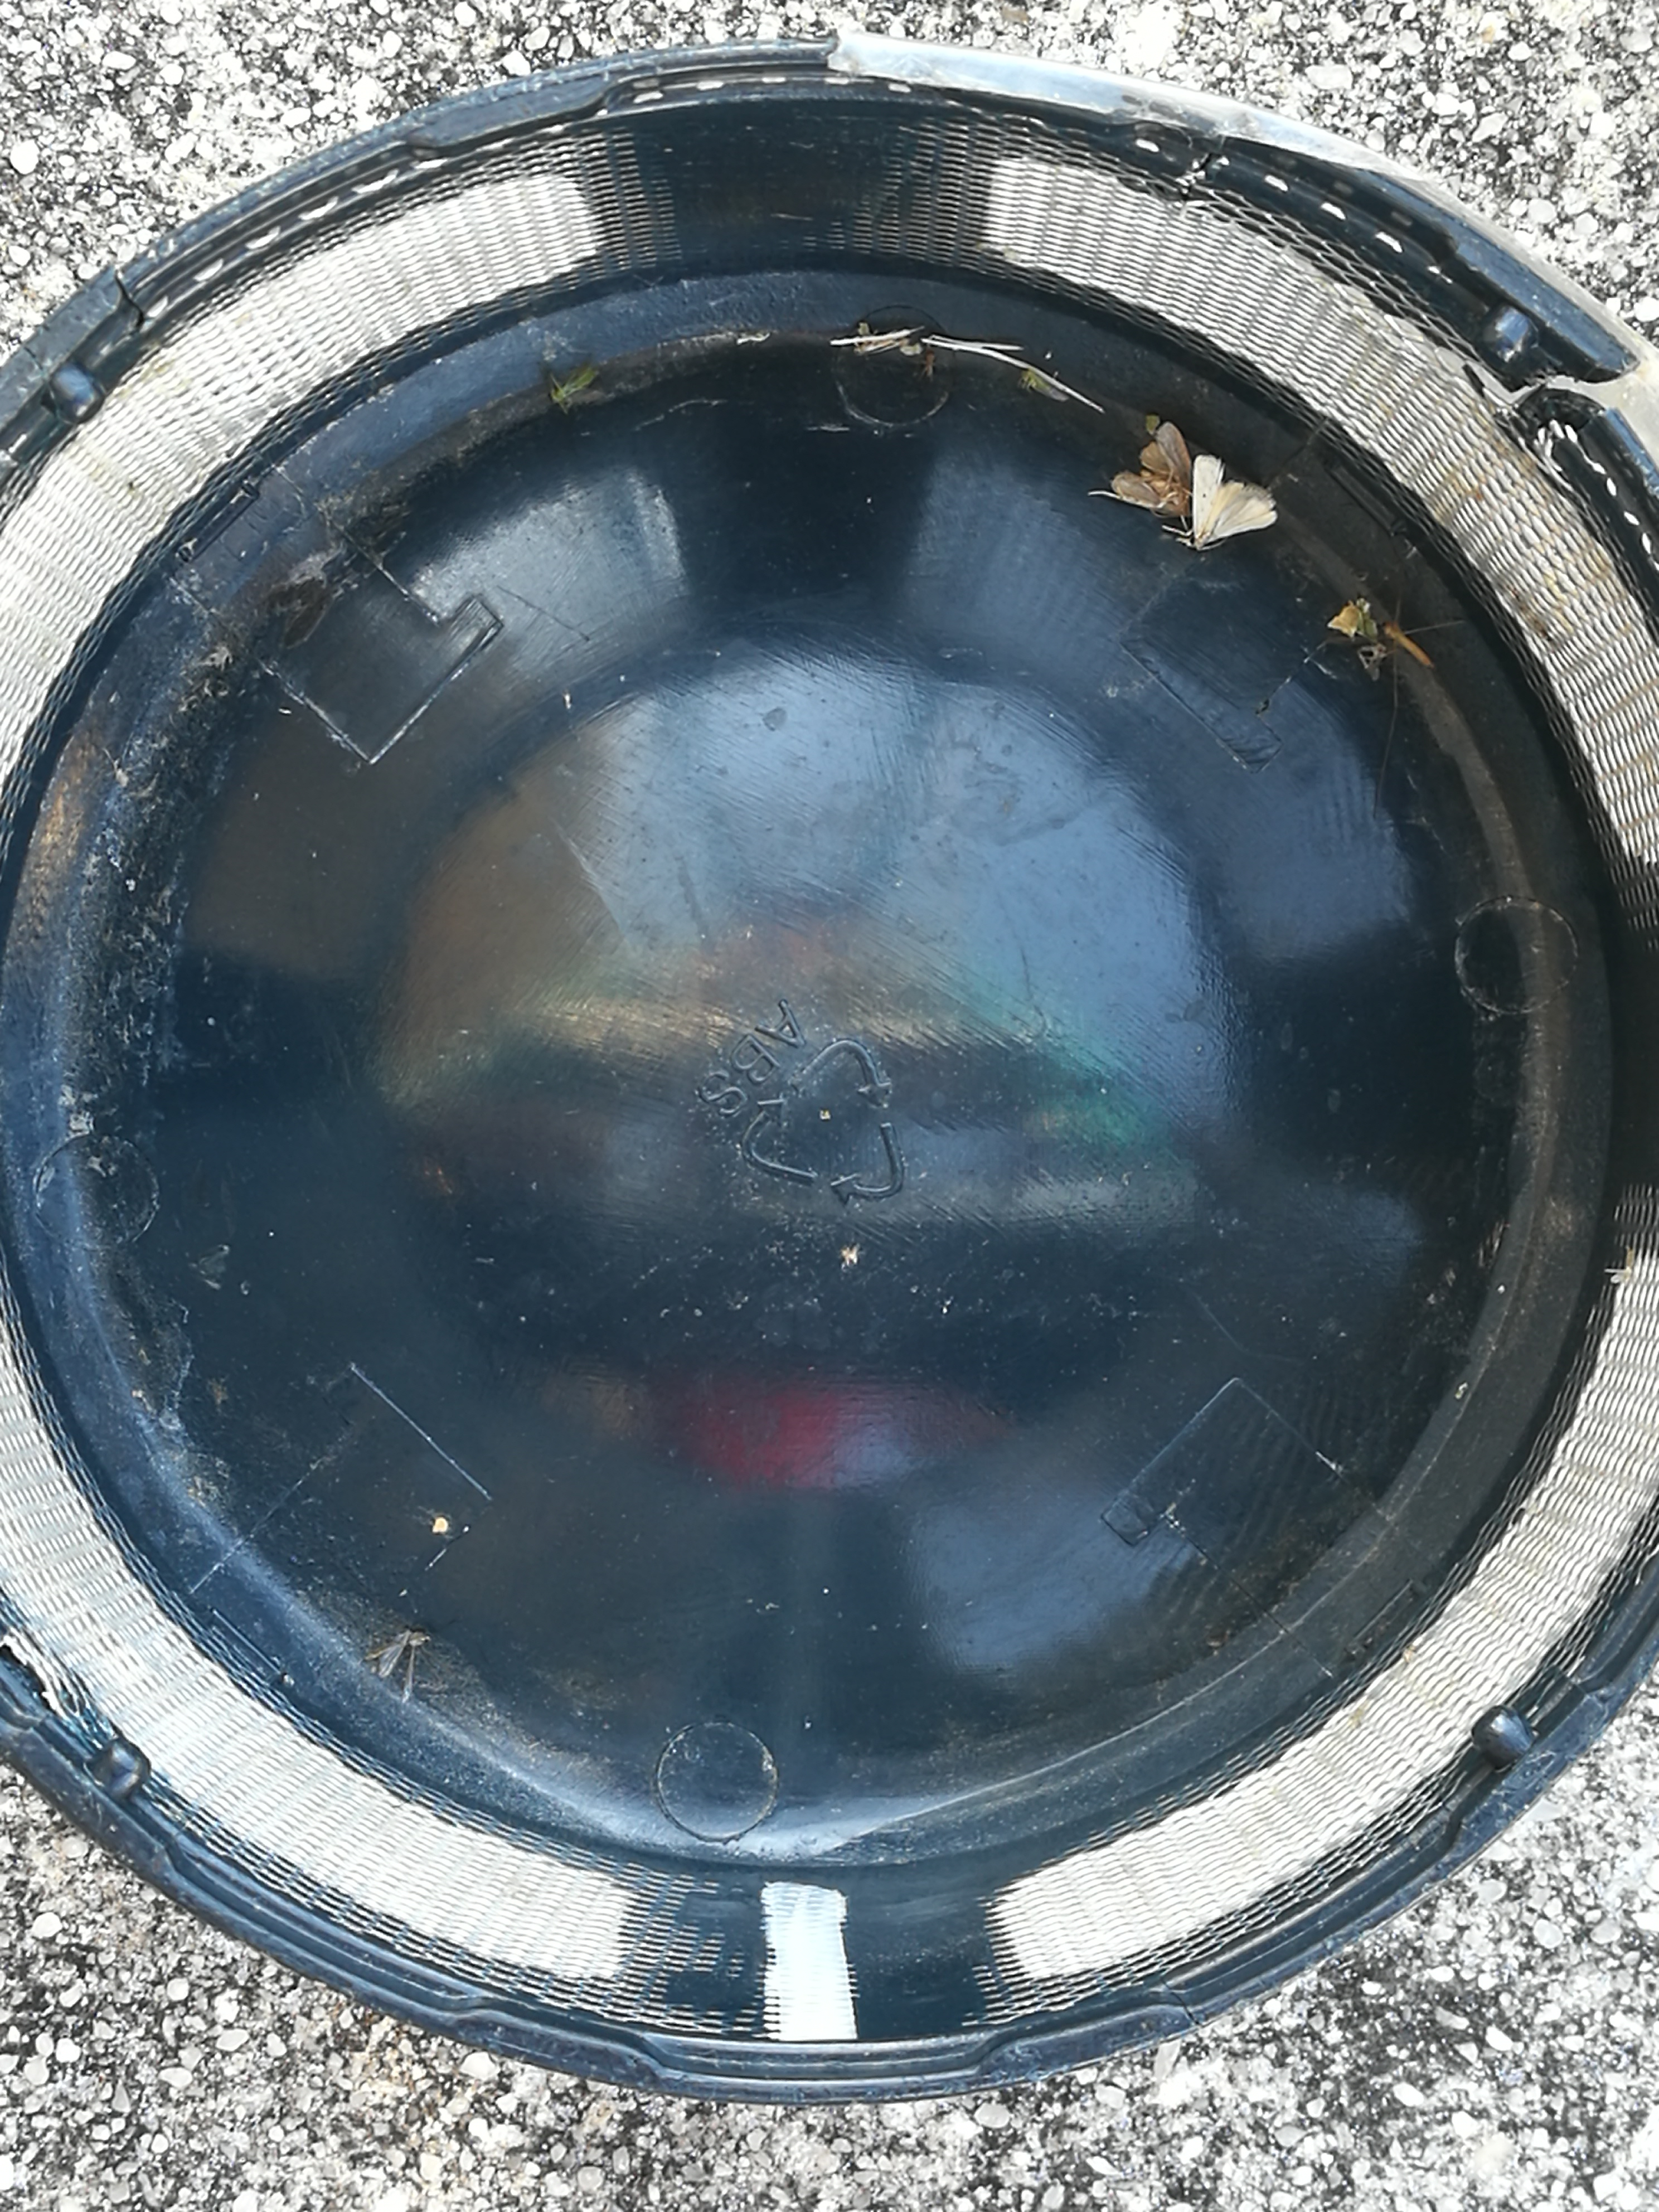mosquito: (1380, 618, 1438, 671)
moth: (1194, 455, 1277, 550), (1112, 423, 1192, 519)
